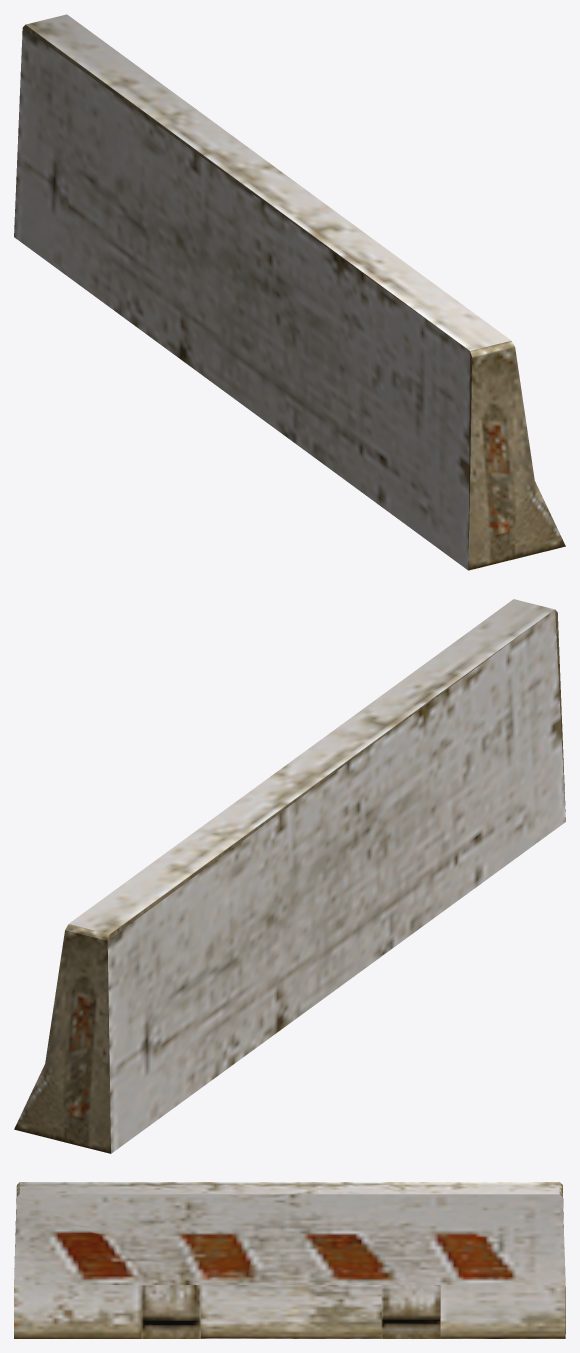
Rendered from RailC.FBX.
The picture shows the model from 3 angles, top to bottom: view 1: azimuth 30°, elevation 25°; view 2: azimuth 150°, elevation 25°; view 3: azimuth 270°, elevation 25°; orthographic projection. The views are drawn at different scales.
Parts seen in each view (by area): view 1: RailC; view 2: RailC; view 3: RailC.
Boxes of the visible parts, box(x1,y1,x2,y2) form: RailC: box(14, 14, 565, 570); RailC: box(14, 599, 565, 1153); RailC: box(14, 1182, 565, 1338).
Bounding box in the file's own units: 26.3 × 211 × 55.15.
